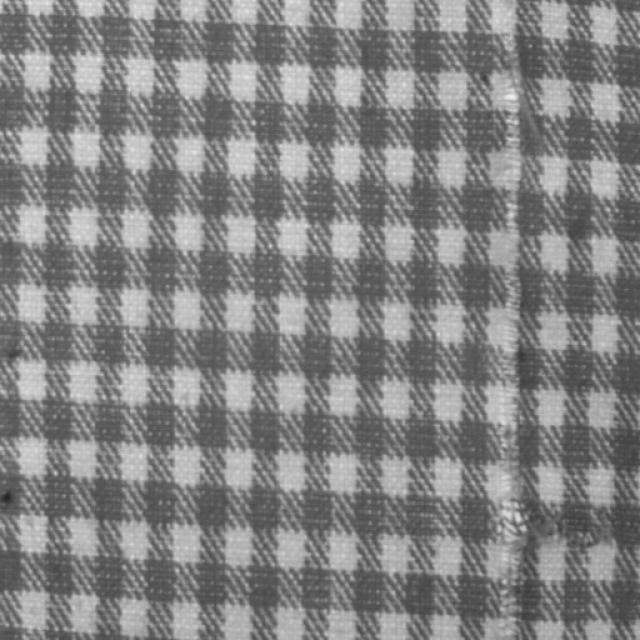Thread-Defect: (490, 0, 531, 637)
